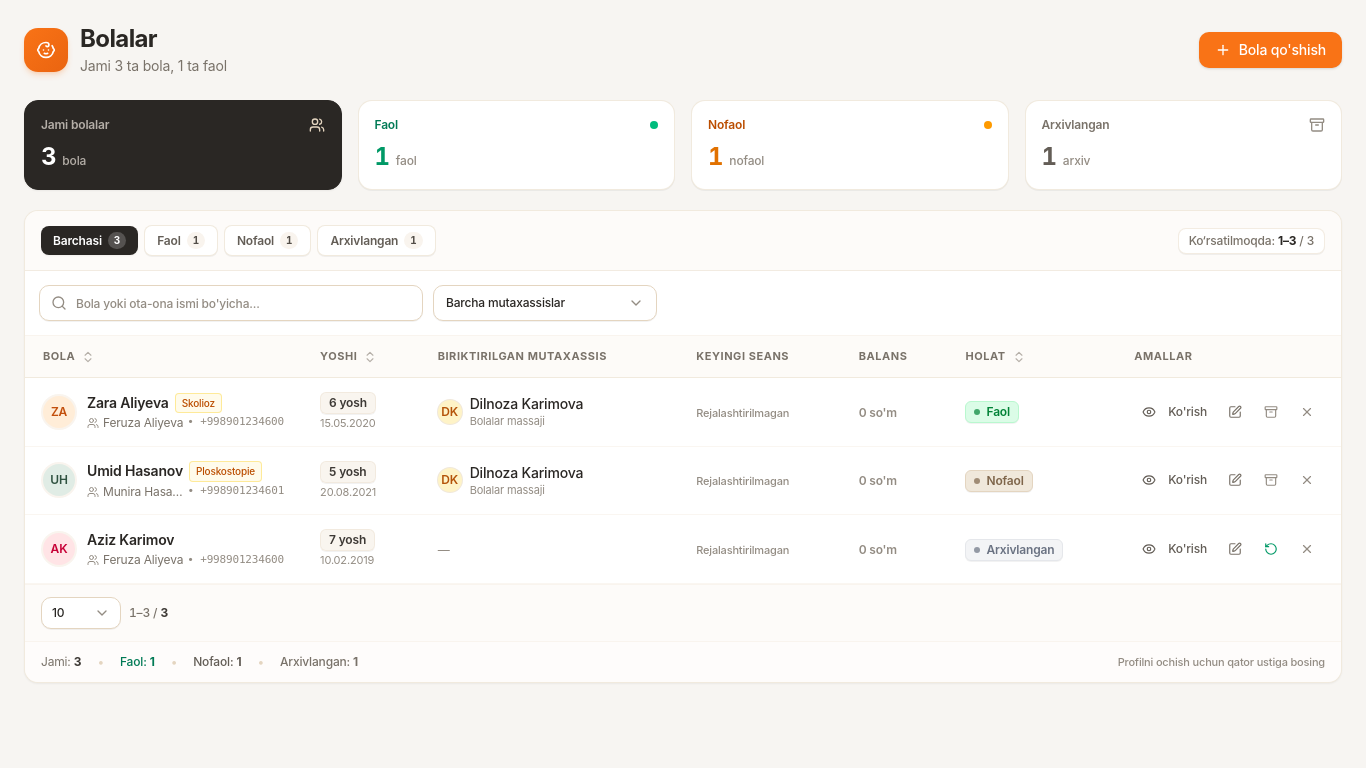
Test case: ChildrenPage Component › opens details modal when clicking on child row
This screenshot has width=1366, height=768.
Click the text "Zara Aliyeva". click: click(128, 403)
box: [87, 393, 169, 413]
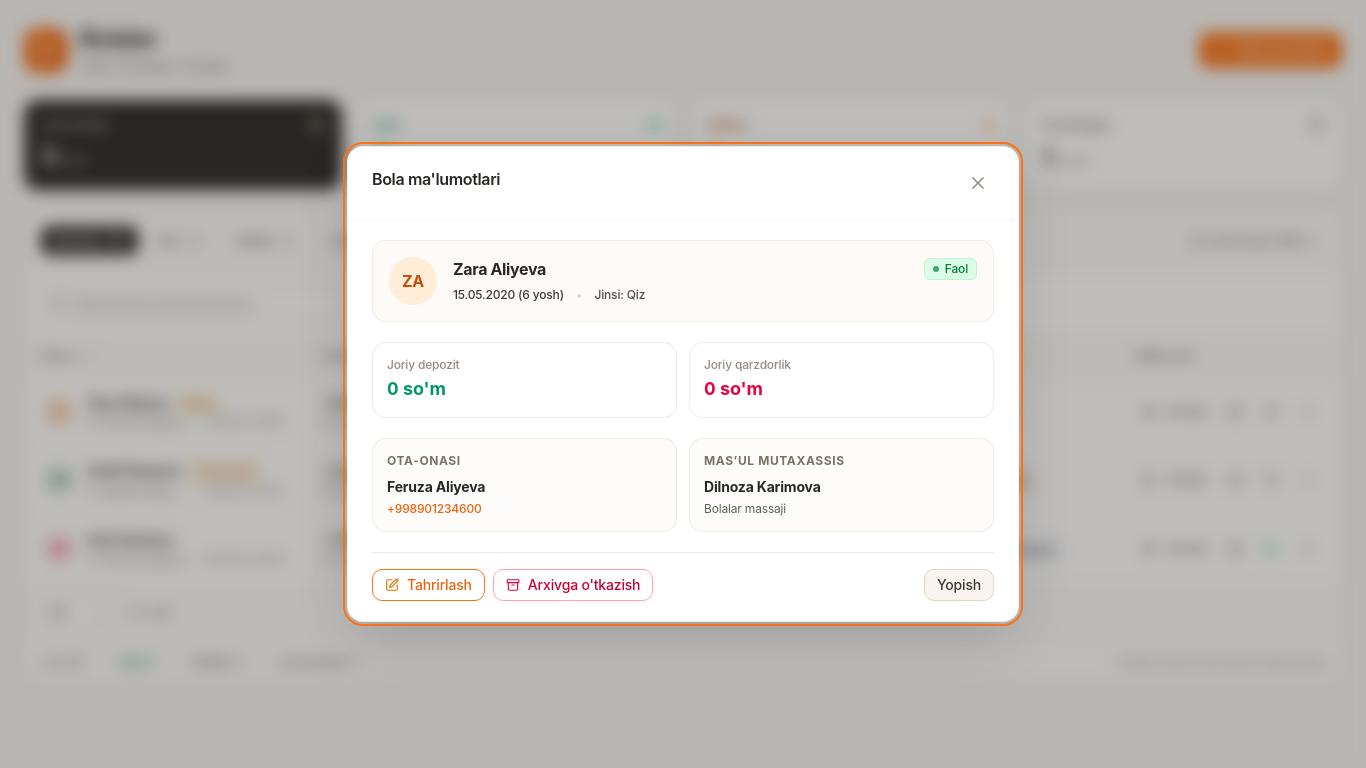
Expected: the heading "Bola ma'lumotlari" is shown, [372, 167, 500, 191]
Expected: the text "Joriy depozit" is shown, [387, 357, 460, 372]
